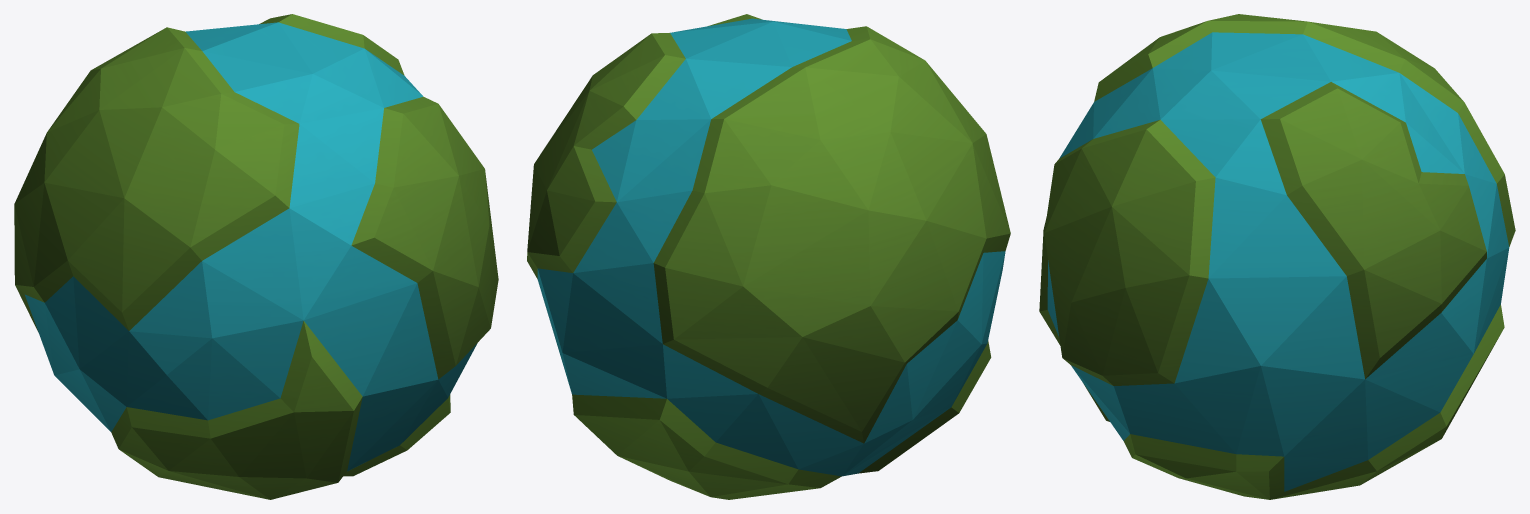
File: Planet_4_Terrain.fbx
3 views of the same model, side by side, from view 1: azimuth 30°, elevation 25°; view 2: azimuth 150°, elevation 25°; view 3: azimuth 270°, elevation 25° (orthographic). The views are drawn at different scales.
Parts seen in each view (by area): view 1: Planet_4_Terrain; view 2: Planet_4_Terrain; view 3: Planet_4_Terrain.
Boxes of the visible parts, x1,y1,x2,y2 form: Planet_4_Terrain: [14, 14, 498, 499]; Planet_4_Terrain: [527, 14, 1010, 499]; Planet_4_Terrain: [1039, 14, 1515, 499].
Bounding box in the file's own units: 417 × 420 × 422.
1 material, 1 textured.
